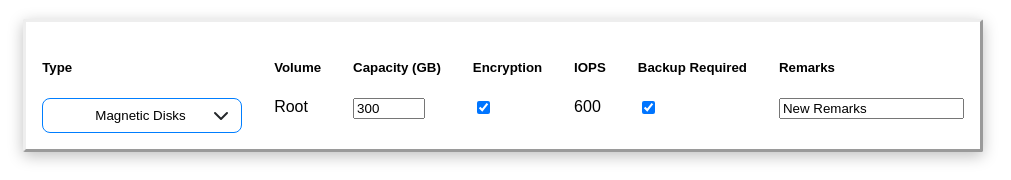
Test case: Testing the Storage Card component in the Storage and Network Tab › Testing if the iops updated on capacity change
The width and height of the screenshot is (1011, 180).
Replace the text in the number field with "511" at point(389, 108), box [353,98,425,118]
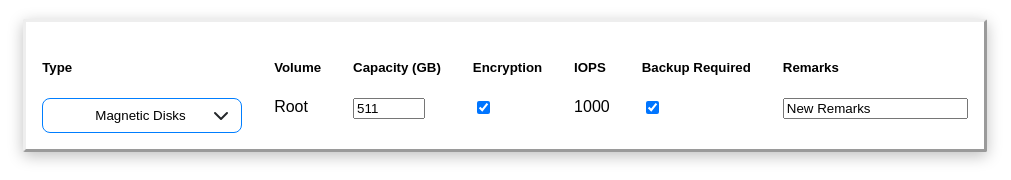
expect the text "1000" is shown: met, box [574,98,610,114]
